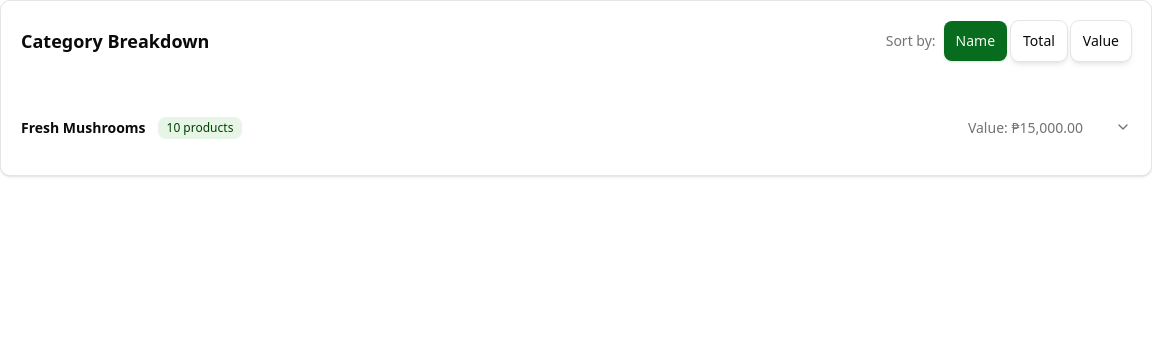
Test: CategoryInventoryBreakdown › Edge Cases › should handle product without mainImage
The width and height of the screenshot is (1152, 350).
Click the heading "Fresh Mushrooms".
click(83, 128)  # box [21, 118, 146, 138]
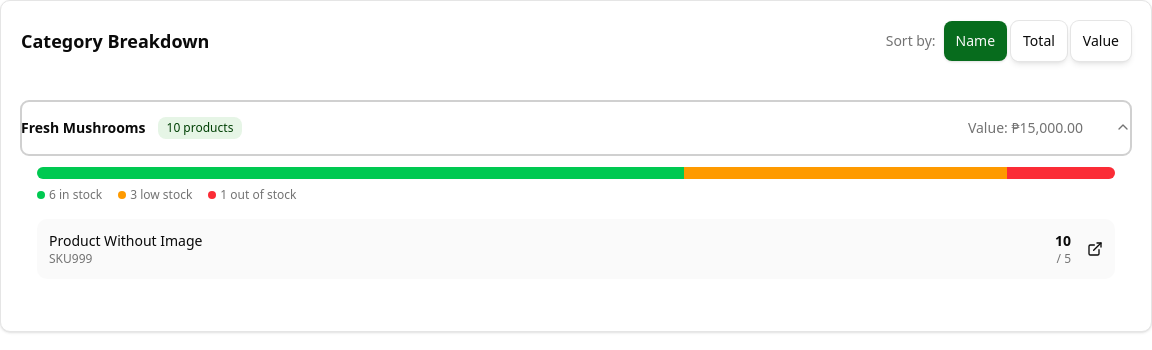
Now the text "Product Without Image" is shown, box [49, 231, 202, 251]
